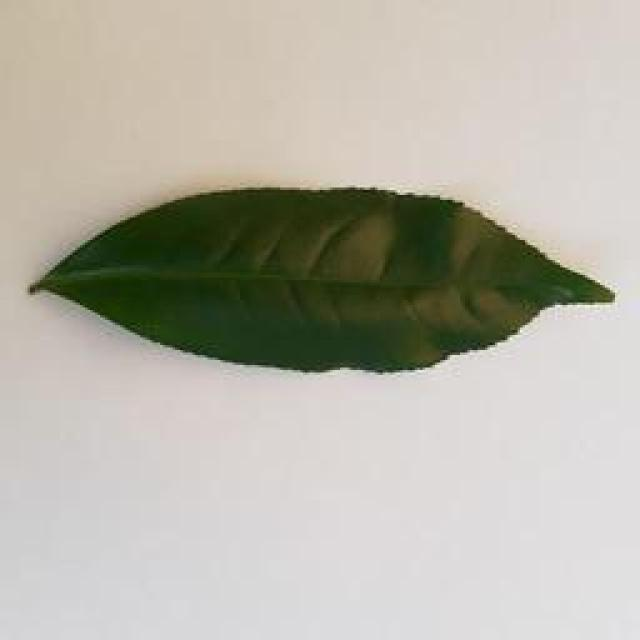Healthy: (0, 168, 626, 390)
